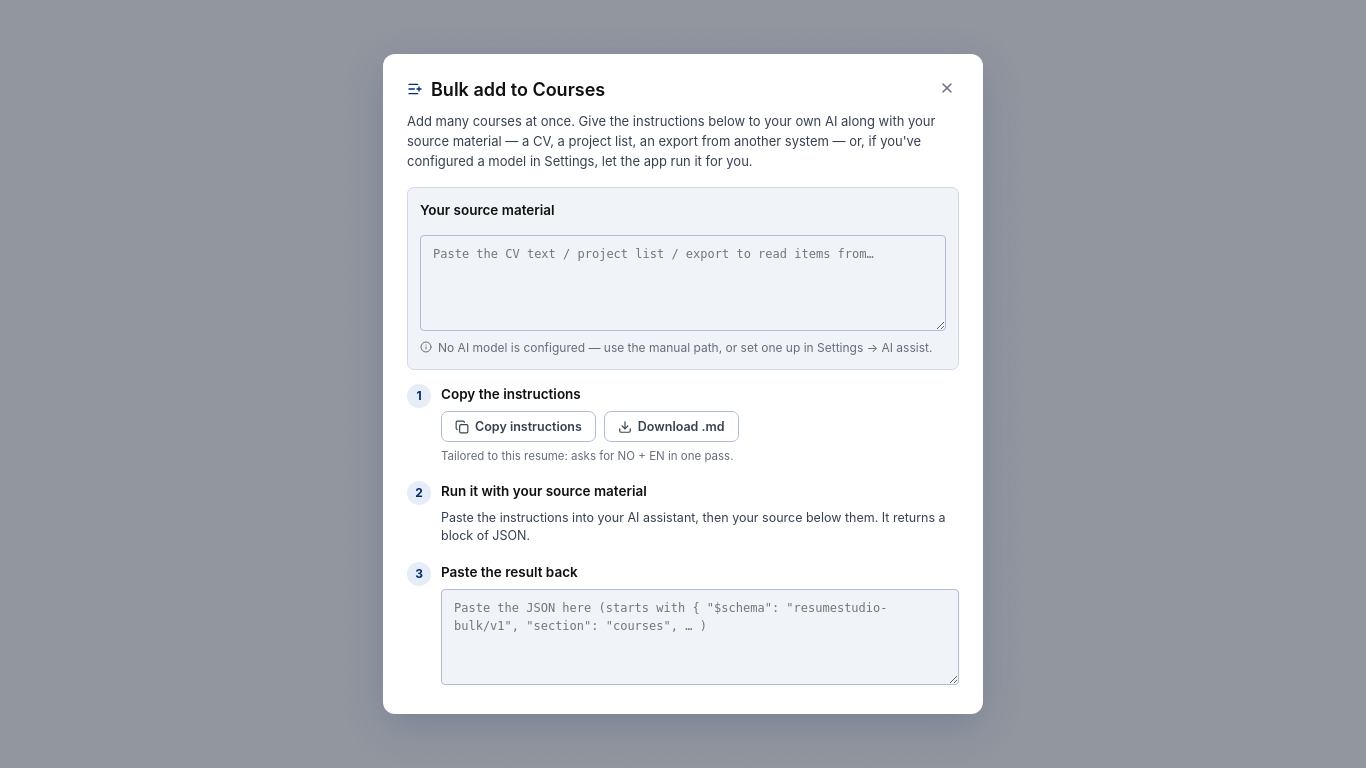
Test: BulkImportModal — validation feedback › reports invalid JSON without throwing
Click the text box named "Bulk import JSON" at (700, 637), box [441, 589, 959, 685]
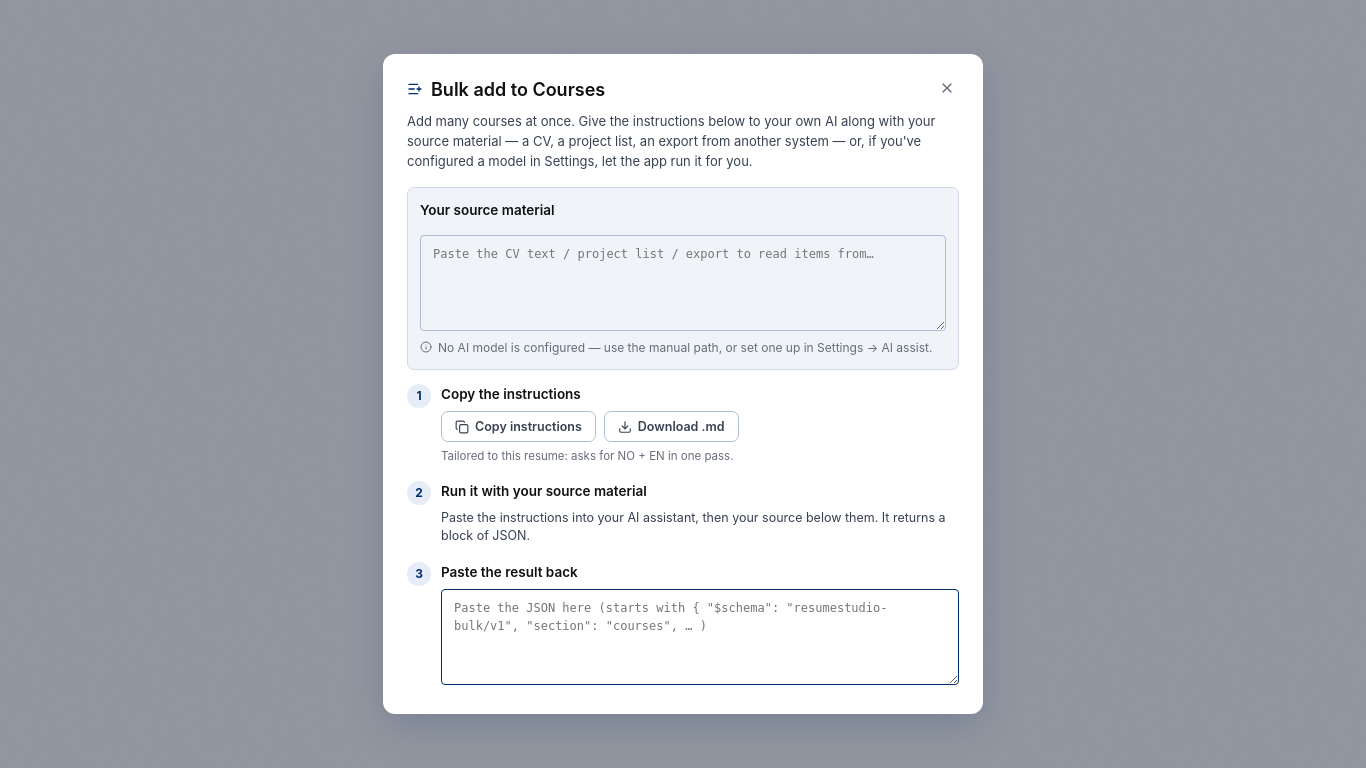
Type keys "{not json"
(page scrolled)
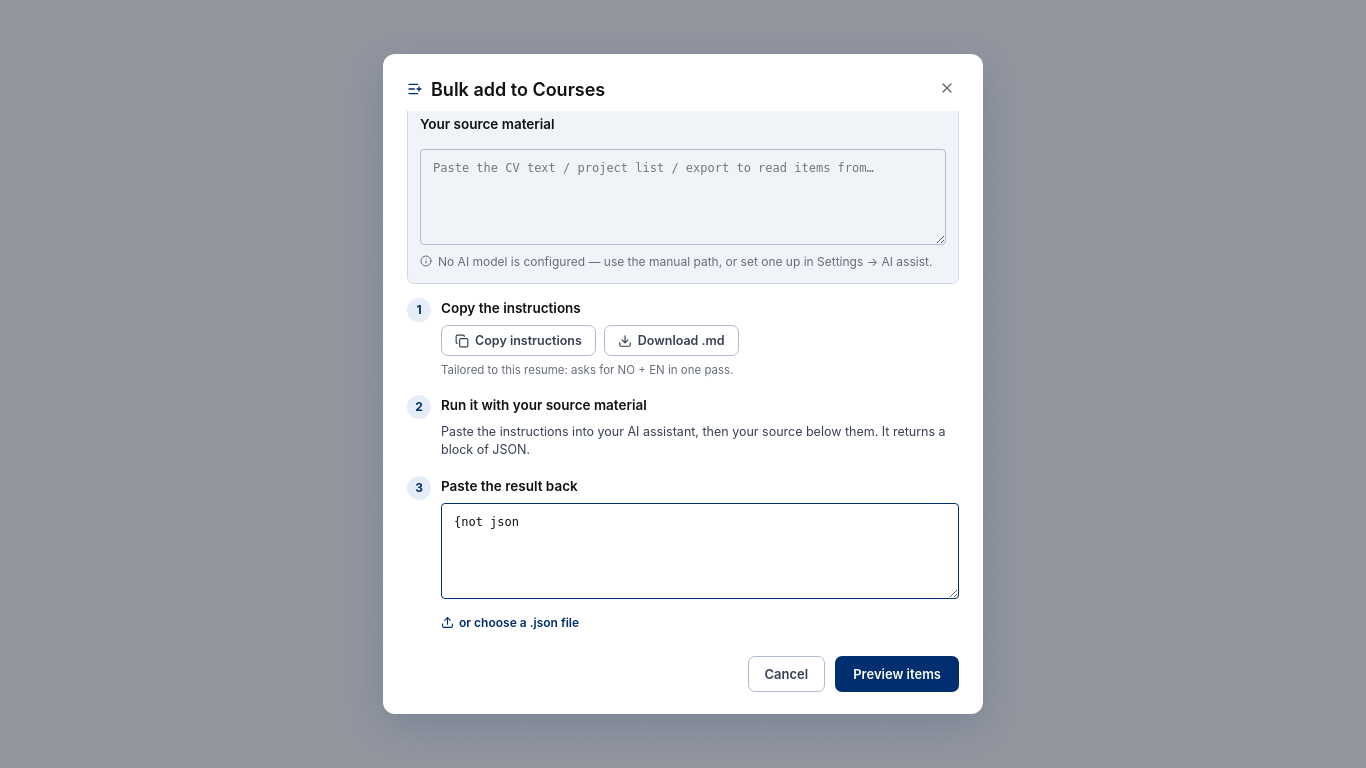
Click the button "Preview items" at (897, 674), box [835, 656, 959, 692]
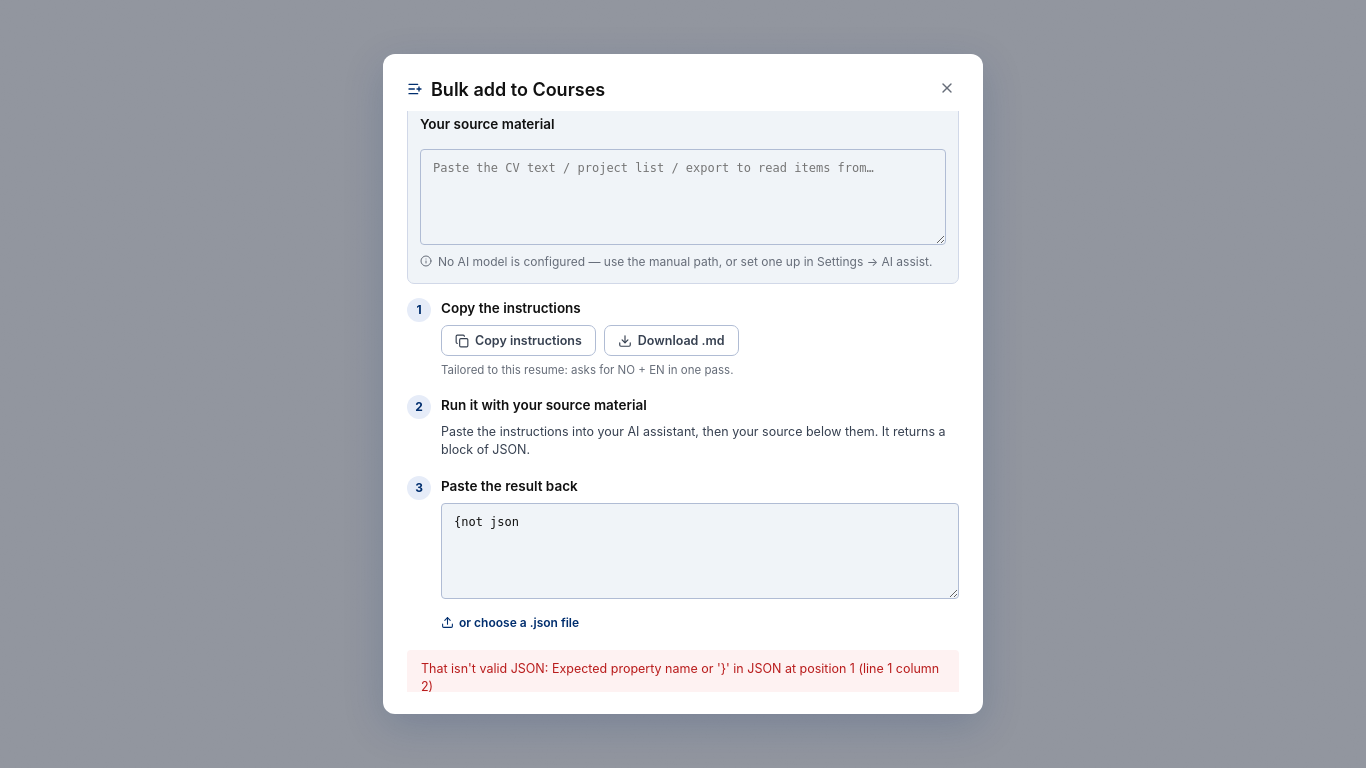
expect the message shows "isn't valid JSON": met, box [421, 661, 939, 692]
